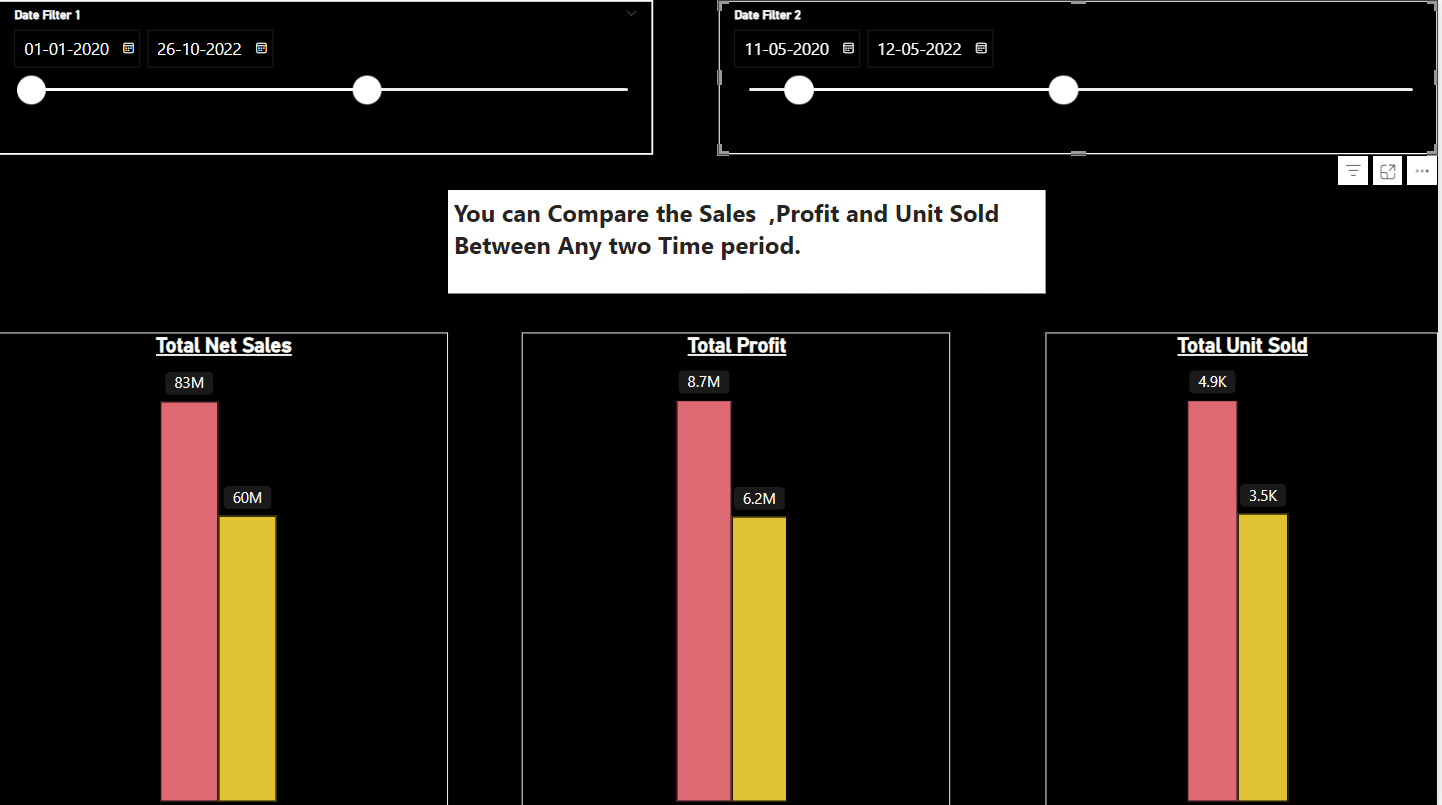

The page's visual inventory and layout, read from the dashboard file:
{"tool":"powerbi","page":{"name":"Page 3","canvas":[1280,720],"ordinal":2},"visuals":[{"type":"slicer","fields":{"Values":["DIM_DATE1.Date"]},"box":[0,0,582.2,137.8],"z":0},{"type":"slicer","fields":{"Values":["DIM_DATE2.Date"]},"box":[640,0,640,137.8],"z":1000},{"type":"clusteredColumnChart","title":"Total Net Sales","fields":{"Y":["Sum(TRANSFORMED_SALES.NET_SALES)","Measure Table.Total Net sales2"]},"box":[0,295.6,400,424.4],"z":2000},{"type":"clusteredColumnChart","title":"Total Profit","fields":{"Y":["Sum(TRANSFORMED_SALES.PROFIT)","Measure Table.Total profit2"]},"box":[465.6,295.6,381.1,424.4],"z":3000},{"type":"clusteredColumnChart","title":"Total Unit Sold","fields":{"Y":["Sum(TRANSFORMED_SALES.UNITS_SOLD)","Measure Table.Total Unit sold"]},"box":[931.1,295.6,348.9,424.4],"z":4000},{"type":"textbox","box":[400,168.9,531.1,92.2],"z":4001}]}

Visuals, with their boxes in screenshot pixels (x1, y1, x2, y2), scaled from the page's 1280x720 canvas onto the 1442x805 screenshot:
slicer - DIM_DATE1.Date: <bbox>0, 0, 656, 154</bbox>
slicer - DIM_DATE2.Date: <bbox>721, 0, 1441, 154</bbox>
"Total Net Sales" clusteredColumnChart: <bbox>0, 330, 451, 804</bbox>
"Total Profit" clusteredColumnChart: <bbox>525, 330, 954, 804</bbox>
"Total Unit Sold" clusteredColumnChart: <bbox>1049, 330, 1441, 804</bbox>
textbox: <bbox>451, 189, 1049, 292</bbox>
